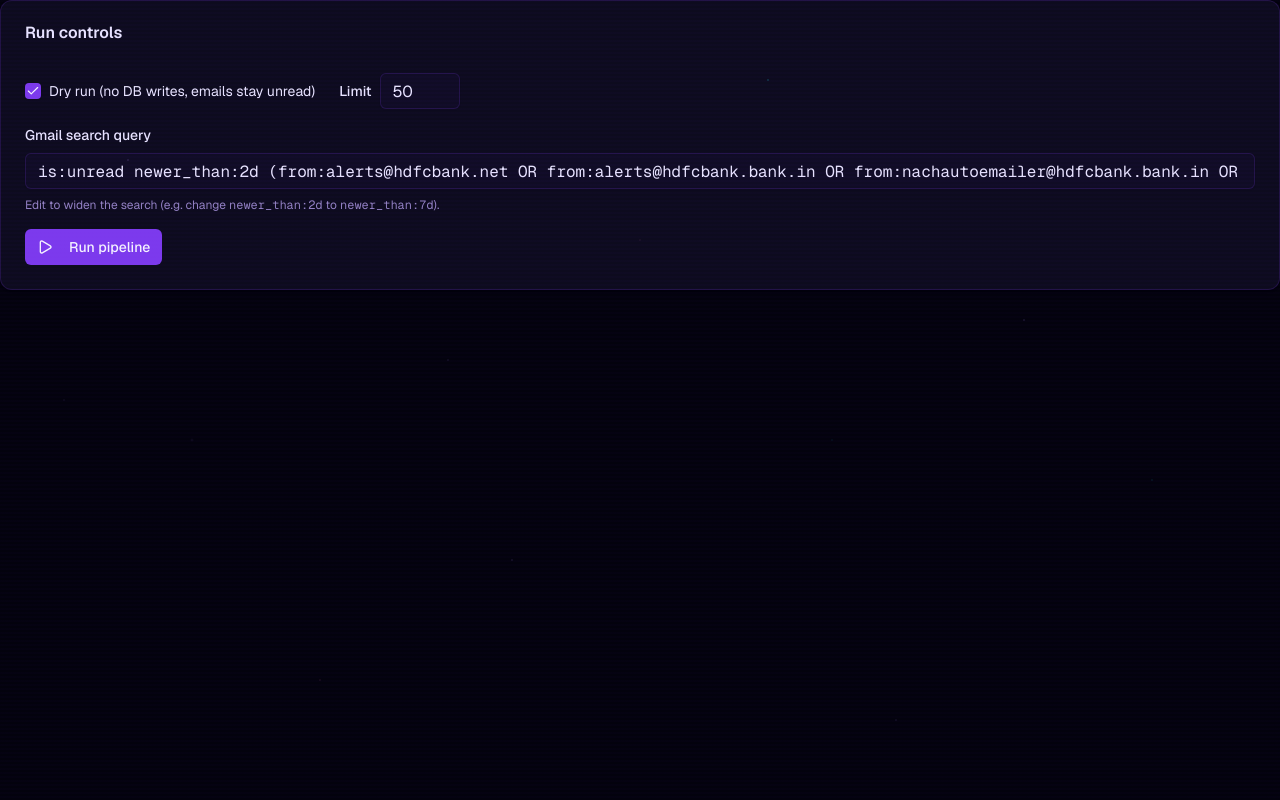
DebugRunner › renders summary stats and entry from a successful response
Click the button "Run pipeline".
click(94, 247)  # box [25,229,162,265]
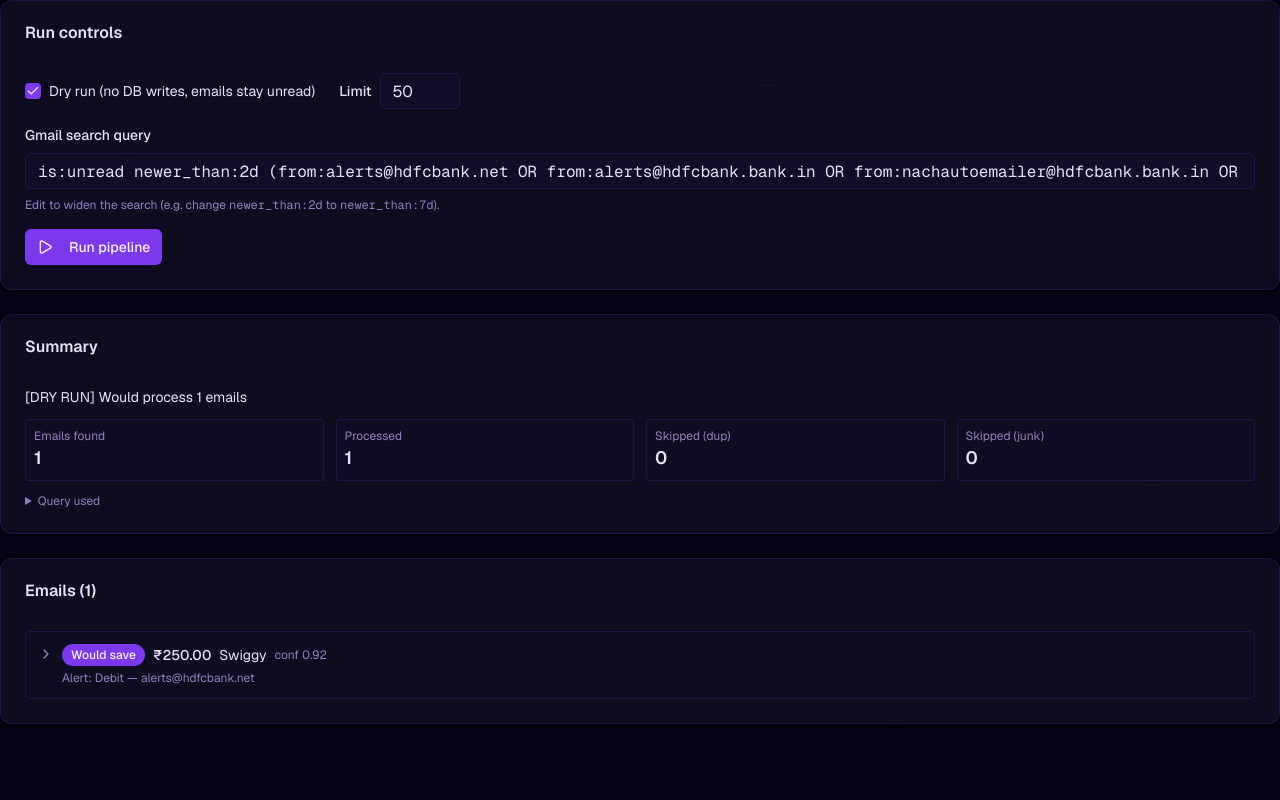
expect the text "[DRY RUN] Would process 1 emails" is shown: met, box [25,388,247,406]
expect the text "Swiggy" is shown: met, box [219,645,266,665]
expect the text "Would save" is shown: met, box [62,644,145,666]
